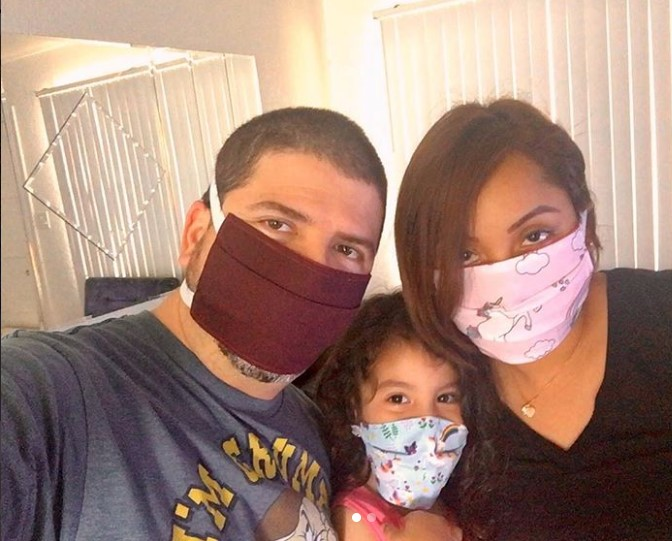face_with_mask: (176, 101, 388, 382), (407, 98, 607, 370), (337, 293, 482, 506)
